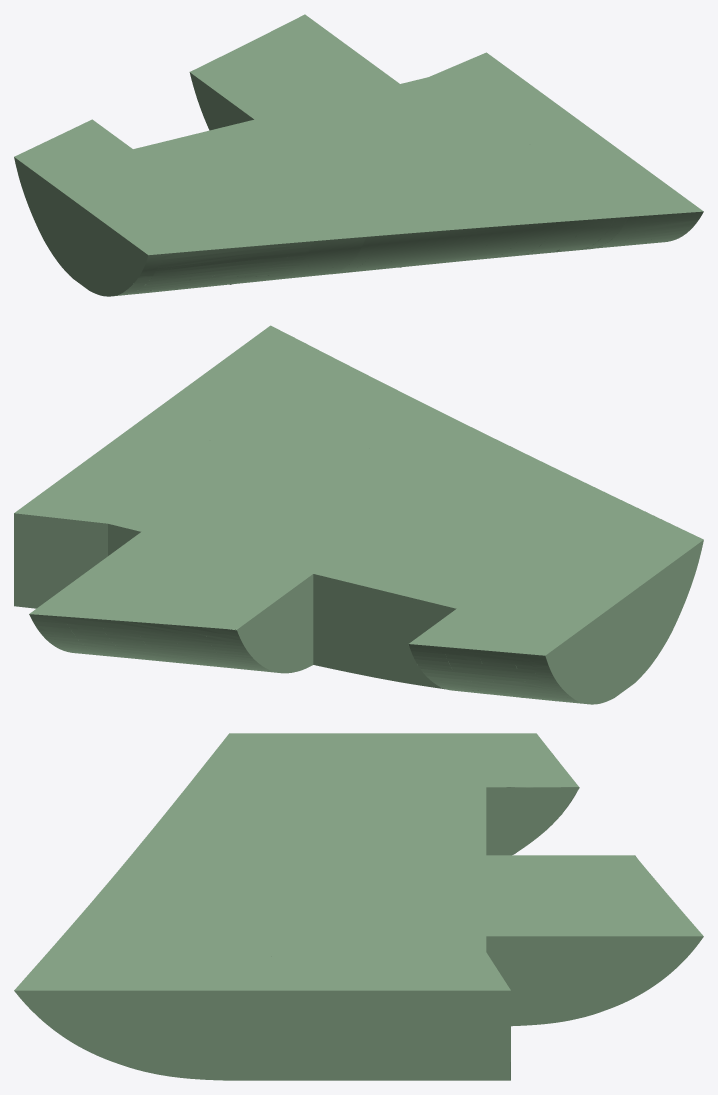
File: DOUBLE_BTM_ENGINE_VOID.glb
3 views of the same model, one above another, from view 1: azimuth 30°, elevation 25°; view 2: azimuth 150°, elevation 25°; view 3: azimuth 270°, elevation 25° (orthographic). The views are drawn at different scales.
Parts seen in each view (by area): view 1: PL_DoubleBottomxEPRS_008005-20.5_NVA_1993, PL_DoubleBottomxEPRP_005004-20.5_NVA_1993, PL_DoubleBottomxEPRS_010001-20.5_NVA_1993, PL_OuterShellxEPRS_046003-18_NVA_1993, PL_DoubleBottomxEPRS_010002-20.5_NVA_1993, PL_DoubleBottomxEPRP_009002-20.5_NVA_1993, PL_DoubleBottomxEPRS_011002-20.5_NVA_1993, PL_DoubleBottomxEPRP_009005-20.5_NVA_1993, PL_OuterShellxEPRS_033001-18_NVA_1993, PL_TransxFR26S_001001-15_NVA_1993, PL_DoubleBottomxEPRS_006001-20.5_NVA_1993, PL_TransxFR26P_001002-15_NVA_1993 (+19 smaller); view 2: PL_DoubleBottomxEPRS_008005-20.5_NVA_1993, PL_DoubleBottomxEPRP_005004-20.5_NVA_1993, PL_DoubleBottomxEPRS_010001-20.5_NVA_1993, PL_DoubleBottomxEPRS_010002-20.5_NVA_1993, PL_DoubleBottomxEPRP_009002-20.5_NVA_1993, PL_DoubleBottomxEPRS_011002-20.5_NVA_1993, PL_DoubleBottomxEPRP_009005-20.5_NVA_1993, PL_OuterShellxEPRP_046003-18_NVA_1993.001, PL_GirderBxEPRP_004002-38.5_NVA_1993, PL_GirderBxEPRP_001001-29.5_NVA_1993, PL_TransxFR26S_001001-15_NVA_1993, PL_TransxFR35P_001002-17.5_NVA_1993 (+20 smaller); view 3: PL_TransxFR45S_001002-17.5_NVA_1993, PL_DoubleBottomxEPRS_008005-20.5_NVA_1993, PL_TransxFR41P_004002-15_NVA_1993, PL_DoubleBottomxEPRP_005004-20.5_NVA_1993, PL_TransxFR45P_001001-17.5_NVA_1993, PL_DoubleBottomxEPRS_010001-20.5_NVA_1993, PL_DoubleBottomxEPRS_010002-20.5_NVA_1993, PL_DoubleBottomxEPRP_009002-20.5_NVA_1993, PL_DoubleBottomxEPRS_011002-20.5_NVA_1993, PL_DoubleBottomxEPRP_009005-20.5_NVA_1993, PL_TransxFR45S_001001-17.5_NVA_1993, PL_TransxFR30P_001002-15_NVA_1993 (+15 smaller).
Boxes of the visible parts, x1,y1,x2,y2 form: PL_DoubleBottomxEPRS_008005-20.5_NVA_1993: [342, 144, 587, 231]; PL_DoubleBottomxEPRP_005004-20.5_NVA_1993: [192, 38, 399, 119]; PL_DoubleBottomxEPRS_010001-20.5_NVA_1993: [263, 110, 497, 194]; PL_OuterShellxEPRS_046003-18_NVA_1993: [331, 217, 627, 274]; PL_DoubleBottomxEPRS_010002-20.5_NVA_1993: [93, 161, 308, 235]; PL_DoubleBottomxEPRP_009002-20.5_NVA_1993: [218, 83, 464, 154]; PL_DoubleBottomxEPRS_011002-20.5_NVA_1993: [139, 195, 365, 253]; PL_DoubleBottomxEPRP_009005-20.5_NVA_1993: [48, 128, 254, 196]; PL_OuterShellxEPRS_033001-18_NVA_1993: [153, 241, 312, 276]; PL_TransxFR26S_001001-15_NVA_1993: [81, 206, 148, 296]; PL_DoubleBottomxEPRS_006001-20.5_NVA_1993: [481, 93, 600, 144]; PL_TransxFR26P_001002-15_NVA_1993: [14, 157, 72, 277]; PL_DoubleBottomxEPRS_008005-20.5_NVA_1993: [211, 390, 496, 496]; PL_DoubleBottomxEPRP_005004-20.5_NVA_1993: [68, 532, 312, 627]; PL_DoubleBottomxEPRS_010001-20.5_NVA_1993: [162, 453, 462, 545]; PL_DoubleBottomxEPRS_010002-20.5_NVA_1993: [410, 506, 663, 593]; PL_DoubleBottomxEPRP_009002-20.5_NVA_1993: [133, 492, 398, 584]; PL_DoubleBottomxEPRS_011002-20.5_NVA_1993: [463, 456, 691, 554]; PL_DoubleBottomxEPRP_009005-20.5_NVA_1993: [357, 552, 599, 633]; PL_OuterShellxEPRP_046003-18_NVA_1993.001: [29, 614, 275, 672]; PL_GirderBxEPRP_004002-38.5_NVA_1993: [356, 584, 523, 696]; PL_GirderBxEPRP_001001-29.5_NVA_1993: [14, 513, 98, 608]; PL_TransxFR26S_001001-15_NVA_1993: [624, 540, 703, 690]; PL_TransxFR35P_001002-17.5_NVA_1993: [237, 574, 313, 673]; PL_TransxFR45S_001002-17.5_NVA_1993: [144, 990, 382, 1080]; PL_DoubleBottomxEPRS_008005-20.5_NVA_1993: [137, 853, 279, 955]; PL_TransxFR41P_004002-15_NVA_1993: [486, 936, 703, 1026]; PL_DoubleBottomxEPRP_005004-20.5_NVA_1993: [486, 855, 628, 936]; PL_TransxFR45P_001001-17.5_NVA_1993: [383, 990, 510, 1080]; PL_DoubleBottomxEPRS_010001-20.5_NVA_1993: [279, 835, 382, 952]; PL_DoubleBottomxEPRS_010002-20.5_NVA_1993: [279, 740, 382, 834]; PL_DoubleBottomxEPRP_009002-20.5_NVA_1993: [402, 835, 486, 952]; PL_DoubleBottomxEPRS_011002-20.5_NVA_1993: [148, 740, 279, 834]; PL_DoubleBottomxEPRP_009005-20.5_NVA_1993: [402, 740, 486, 834]; PL_TransxFR45S_001001-17.5_NVA_1993: [14, 990, 144, 1071]; PL_TransxFR30P_001002-15_NVA_1993: [486, 787, 579, 855].
Size of the model in its own units: 17.1 by 2.82 by 19.38.
